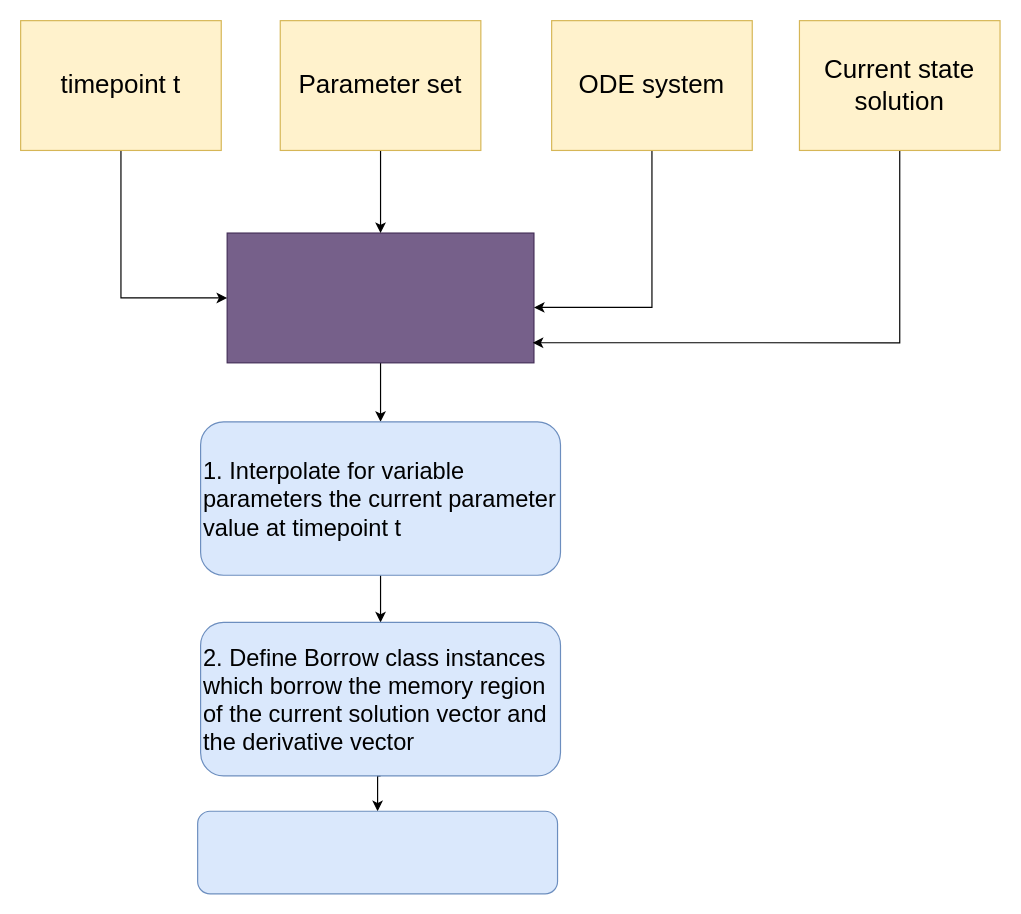
Some shapes in this 1021 by 914 pixel diagram are drawn without their labels. The centre of each missing label's shape, as x and y in pixels:
"3. Call the ODE system thereby updating the derivative vector" belongs at point 377,852.
"Eval ODE system" belongs at point 380,297.
